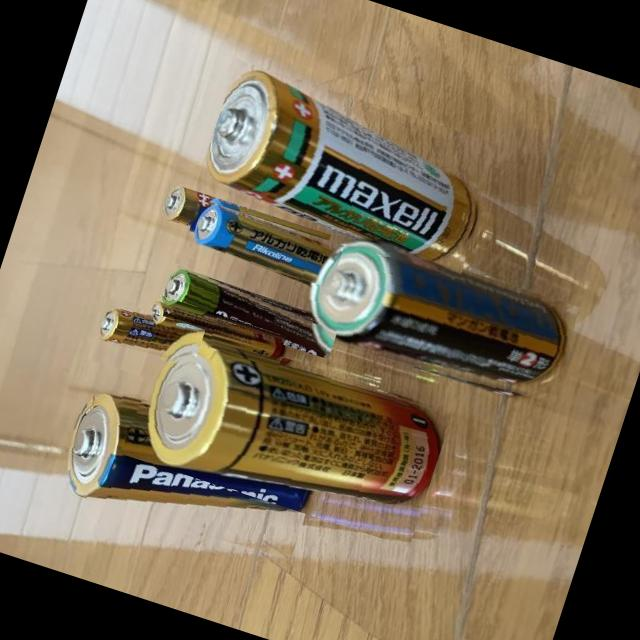Hazard: (120, 316, 454, 546), (193, 59, 504, 284), (37, 356, 330, 571), (292, 225, 586, 418), (156, 260, 342, 358), (154, 182, 332, 280), (185, 198, 345, 292), (144, 292, 288, 370), (86, 295, 206, 375)
